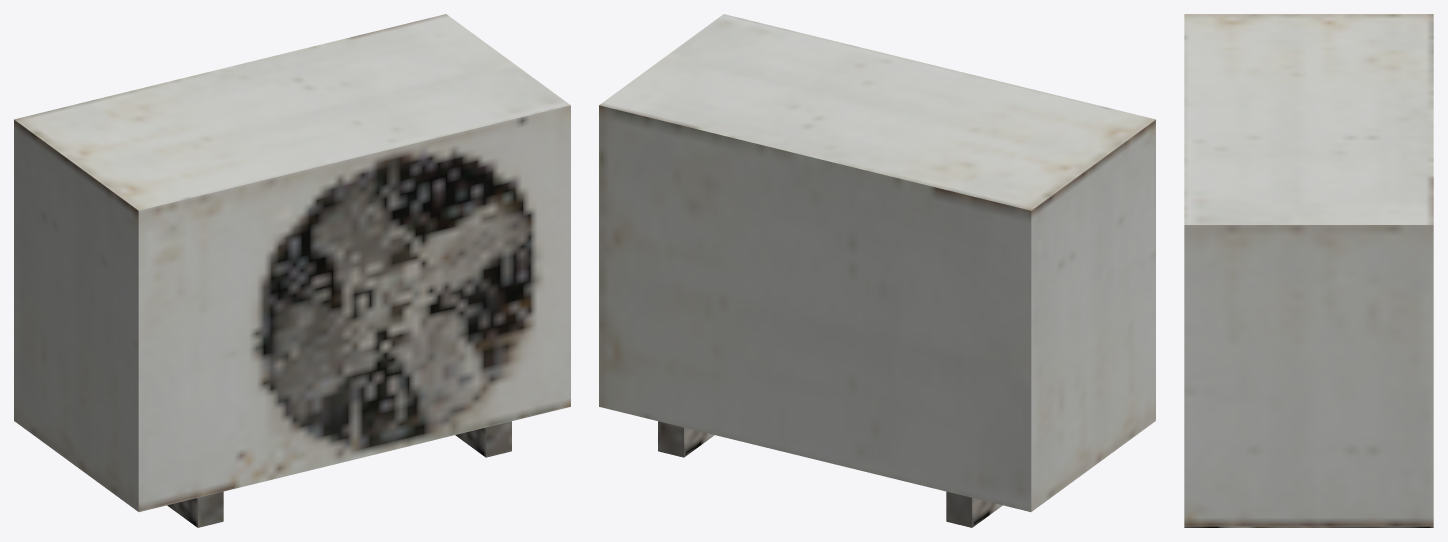
The model's file is AirCon01.obj.
3 views of the same model, side by side, from view 1: azimuth 30°, elevation 25°; view 2: azimuth 150°, elevation 25°; view 3: azimuth 270°, elevation 25° (orthographic).
Visible parts, largest first — view 1: AirCon01; view 2: AirCon01; view 3: AirCon01.
Part boxes in pixels (x1,y1,x2,y2): AirCon01: (14, 14, 570, 527); AirCon01: (599, 14, 1155, 527); AirCon01: (1184, 14, 1433, 527).
Bounding box in the file's own units: 1.5 × 1.1 × 0.75.
